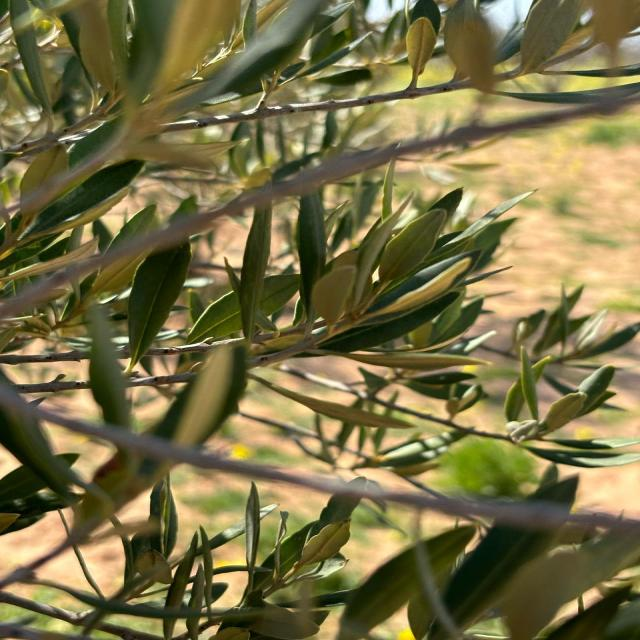Healthy: (21, 160, 143, 238), (128, 242, 191, 372), (374, 208, 447, 290), (538, 392, 587, 438)
